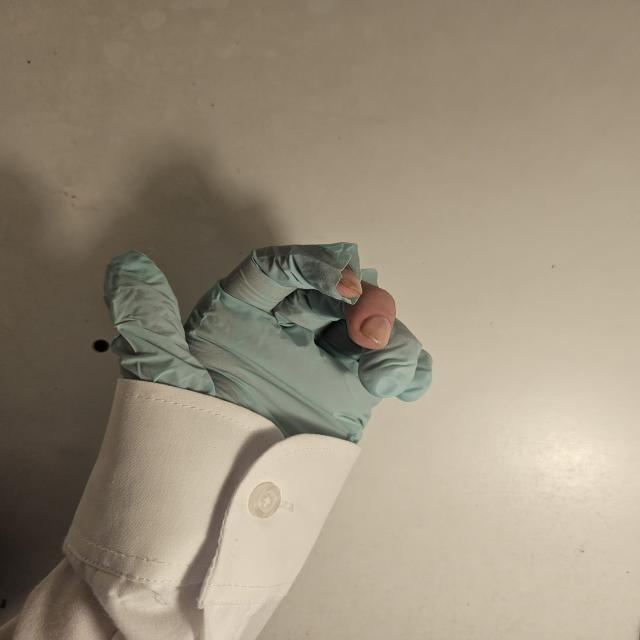gloves_damaged: (107, 238, 440, 451)
